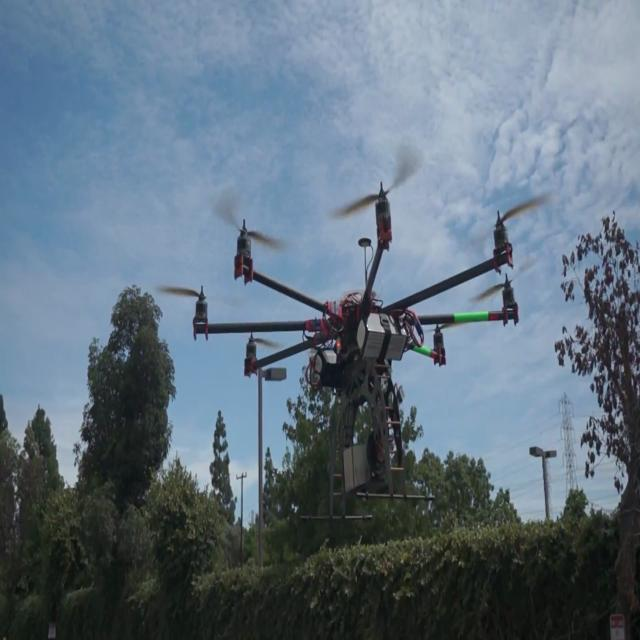drone: (180, 135, 546, 528)
